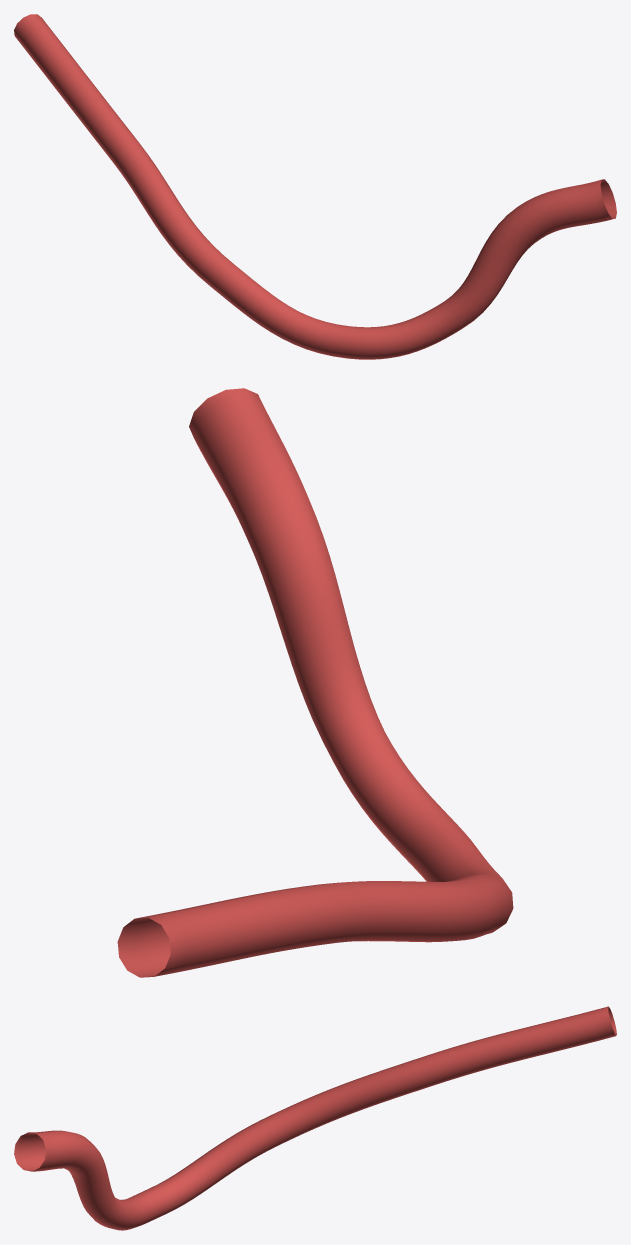
3 renders of one model, top to bottom at view 1: azimuth 30°, elevation 25°; view 2: azimuth 150°, elevation 25°; view 3: azimuth 270°, elevation 25°, orthographic. The views are drawn at different scales.
Parts seen in each view (by area): view 1: 左侧脊髓前动脉; view 2: 左侧脊髓前动脉; view 3: 左侧脊髓前动脉.
Part boxes in pixels (x1,y1,x2,y2): 左侧脊髓前动脉: (14, 14, 616, 359); 左侧脊髓前动脉: (117, 388, 513, 977); 左侧脊髓前动脉: (14, 1006, 616, 1230).
Bounding box in the file's own units: 0.0214 × 0.0127 × 0.0404.
